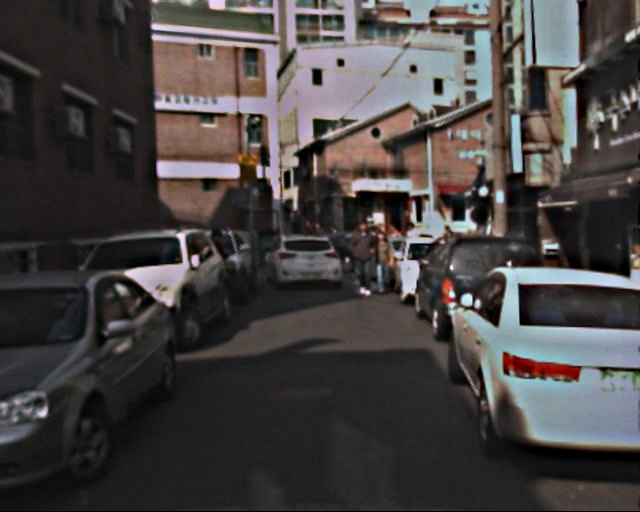person: (348, 221, 380, 299), (369, 230, 396, 296)
